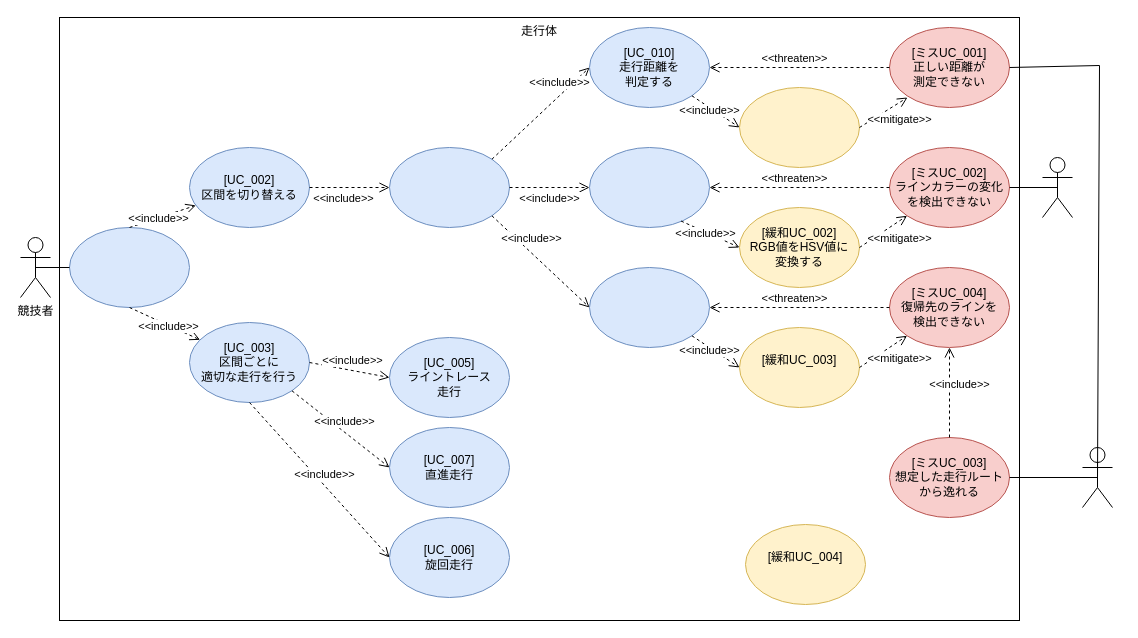
This 1138x638 diagram has some shape labels left out. Each missing label, with the centre of its shape:
"[UC_001] ダブルループを 攻略する" belongs at (x=129, y=267).
"[UC_004] 区間の終了条件を 判定する" belongs at (x=449, y=187).
"[UC_008] 復帰先のラインを 検出する" belongs at (x=649, y=307).
"[UC_009] ラインカラーを 判定する" belongs at (x=649, y=187).
"[緩和UC_001]" belongs at (x=799, y=127).
"スリップ" belongs at (x=1097, y=477).
"環境光による 反射" belongs at (x=1057, y=187).
